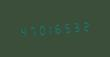five: (62, 19, 70, 35)
four: (17, 23, 25, 39)
one: (44, 20, 52, 37)
seven: (26, 22, 34, 38)
six: (53, 20, 61, 36)
three: (71, 18, 79, 34)
two: (80, 17, 88, 34)
zero: (35, 21, 43, 37)
